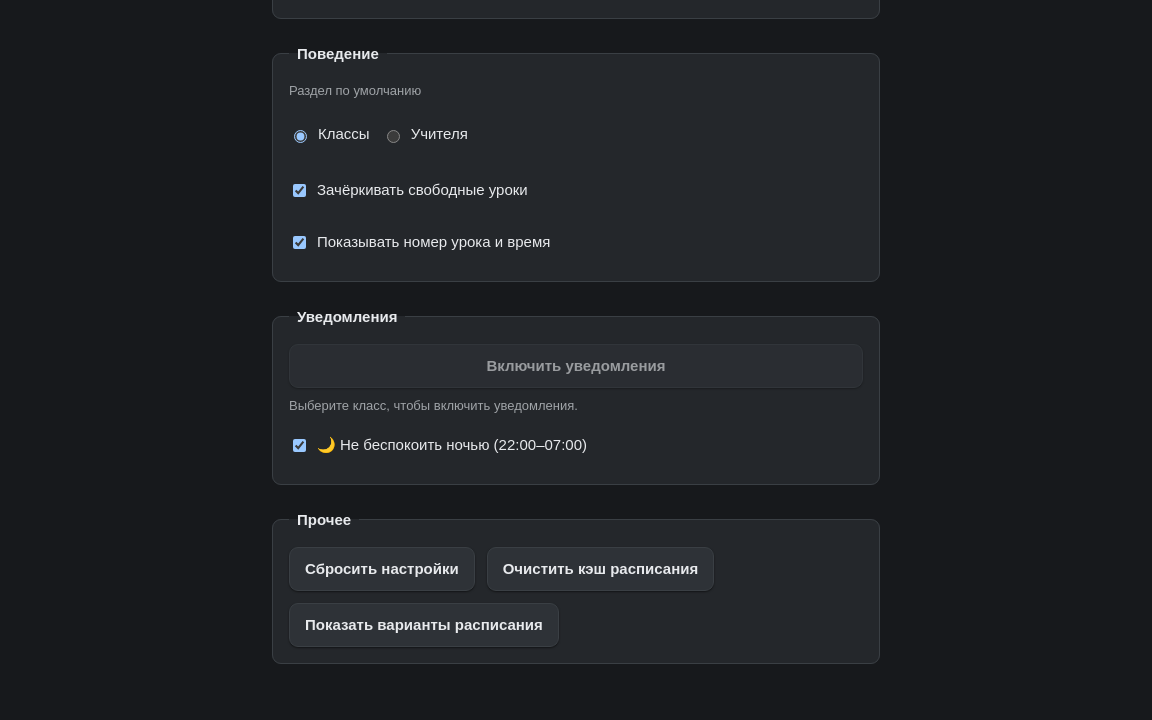
Settings screen › resets settings and clears the schedule cache
(page scrolled)
Click the button "Сбросить настройки" at (382, 569), box [289,547,475,591]
(page scrolled)
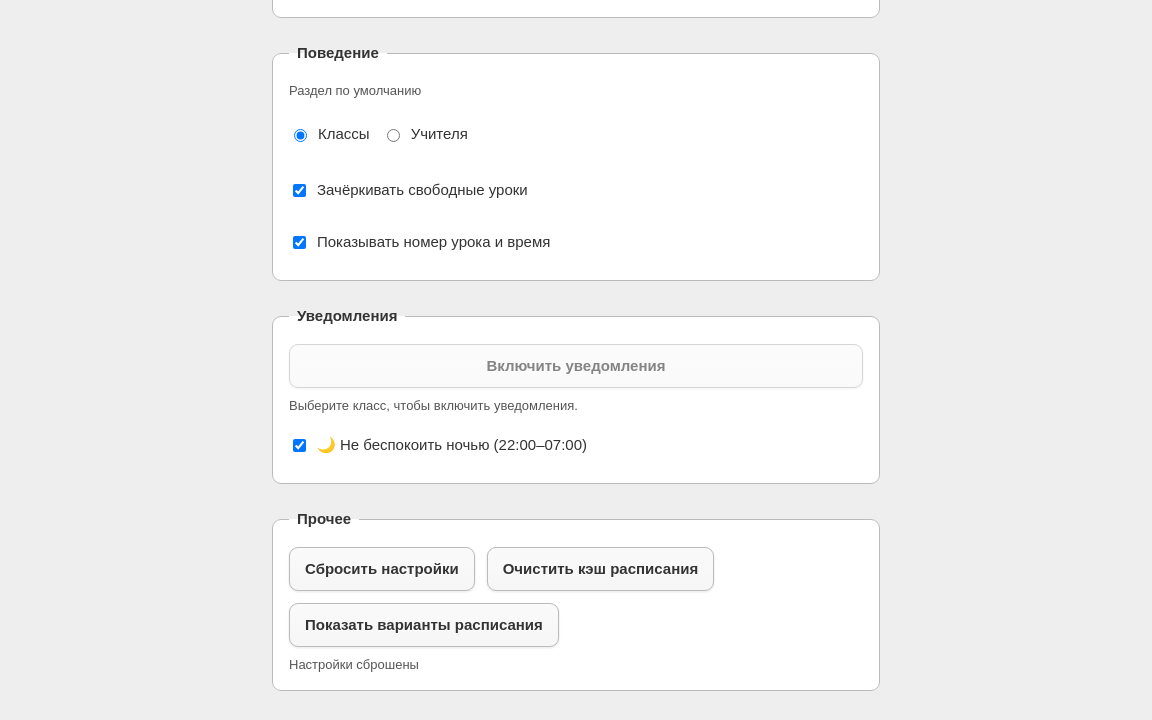
Result: the text "Настройки сброшены" is shown at [289,656,419,672]
Click the button "Очистить кэш расписания" at (600, 568), box [487,546,714,590]
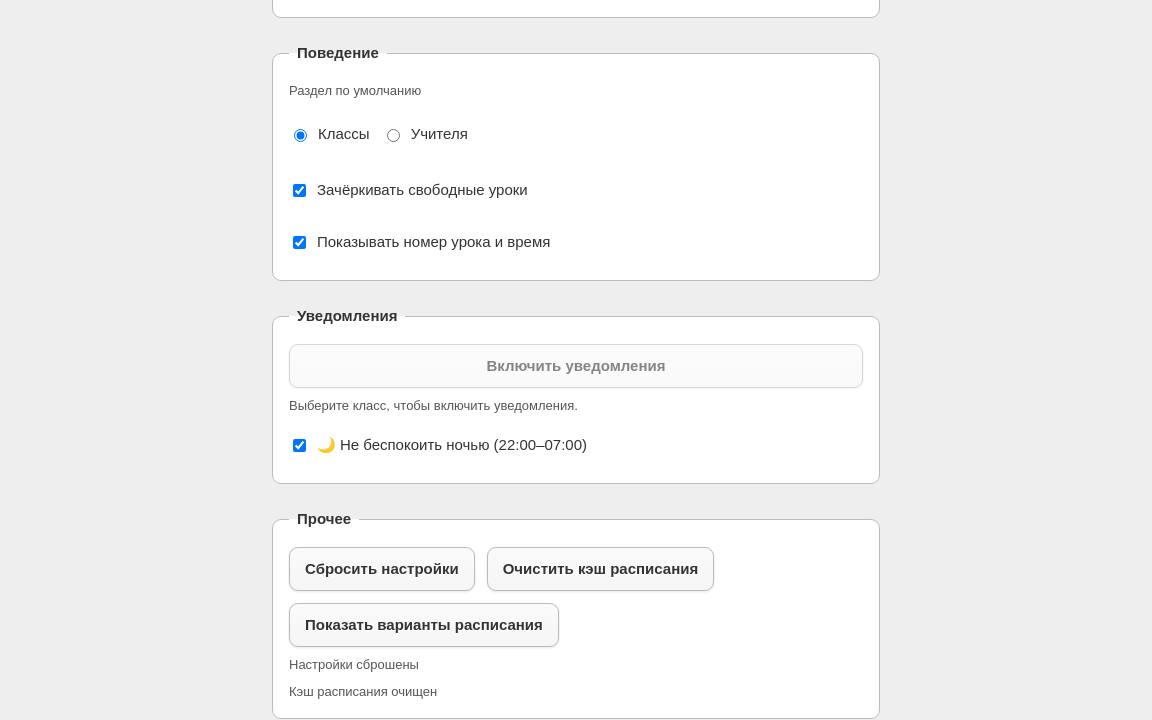
Result: the text "Кэш расписания очищен" is shown at [289,684,437,699]
